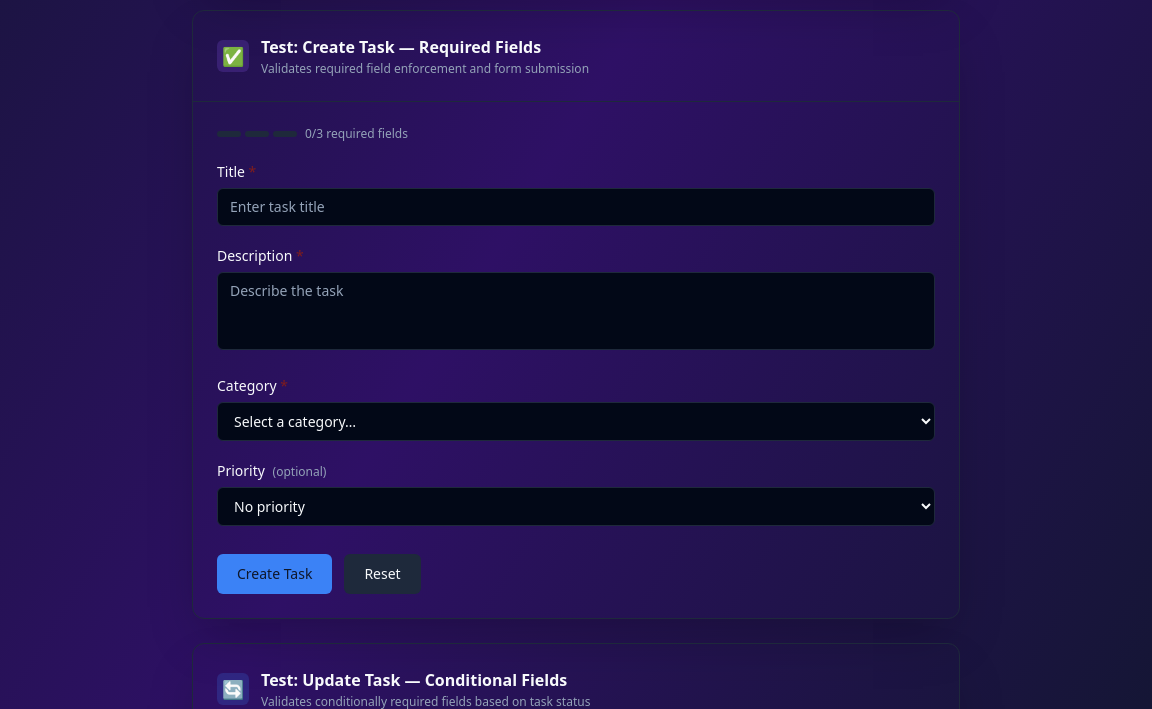
Scenario: Create Task — Required Fields › clears title error when title is filled in
The width and height of the screenshot is (1152, 709).
(page scrolled)
Submit the form, box [217,126,935,594]
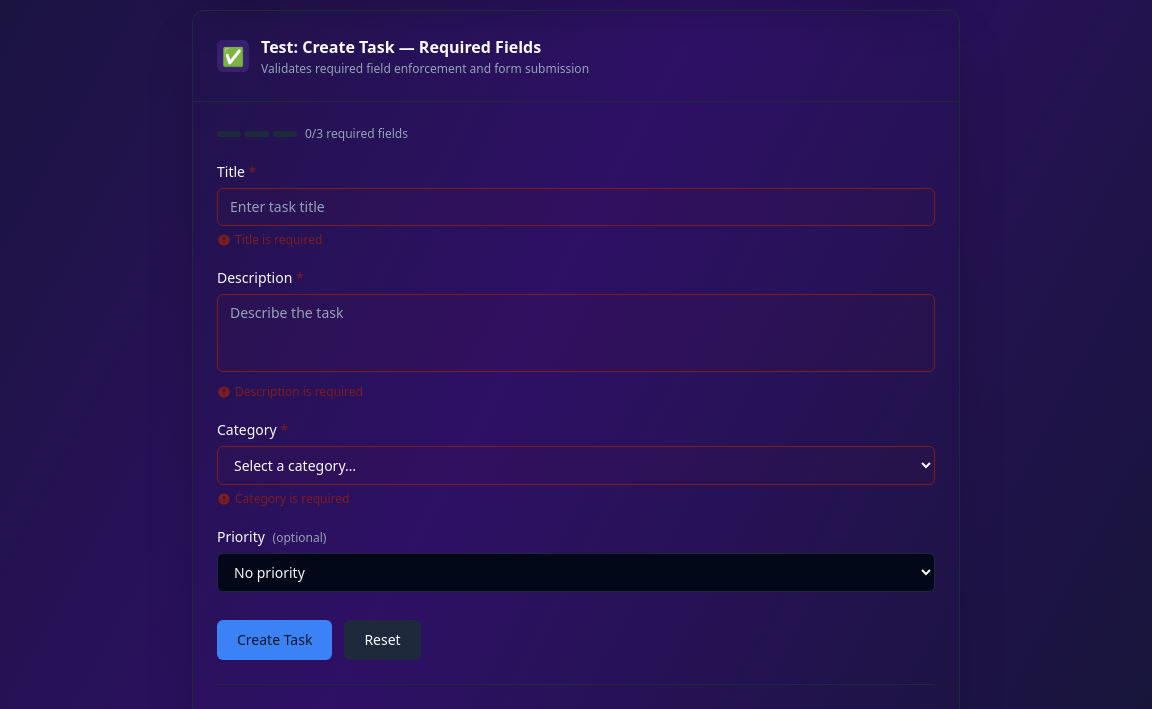
Now the text "Title is required" is shown, box [217,231,322,248]
Type "My task" into the field with id "task-title".
click(576, 207); type("My task")  # box [217,188,935,226]
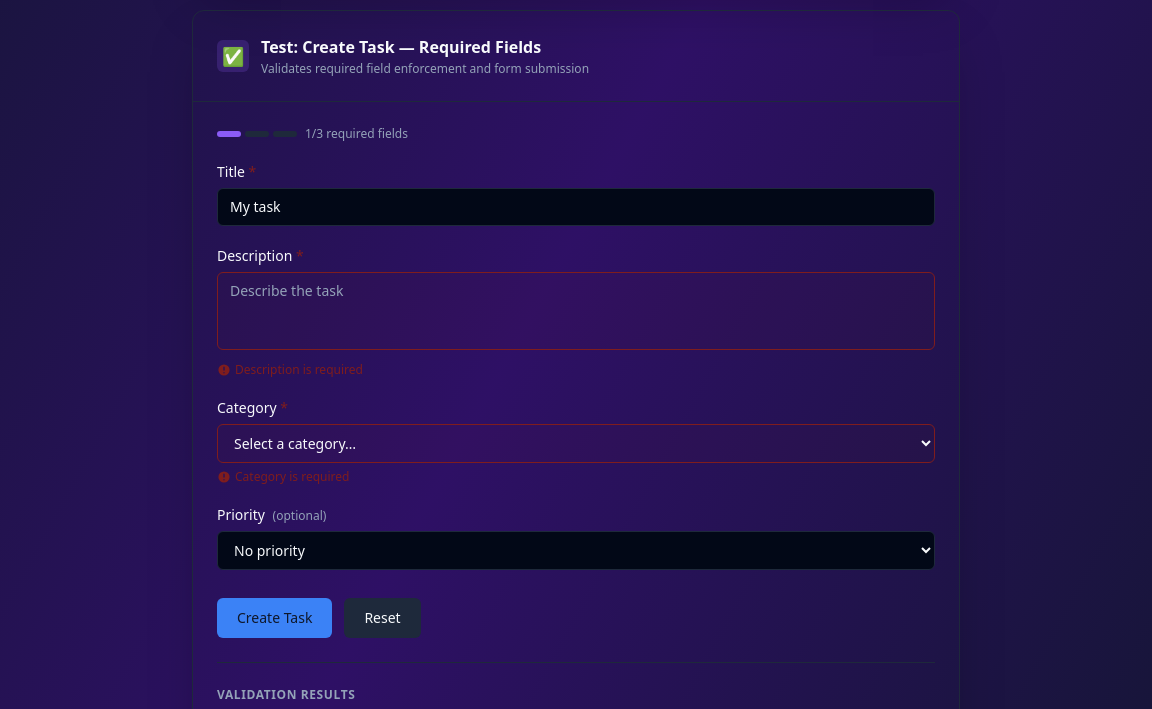
Now the text "Title is required" is gone
